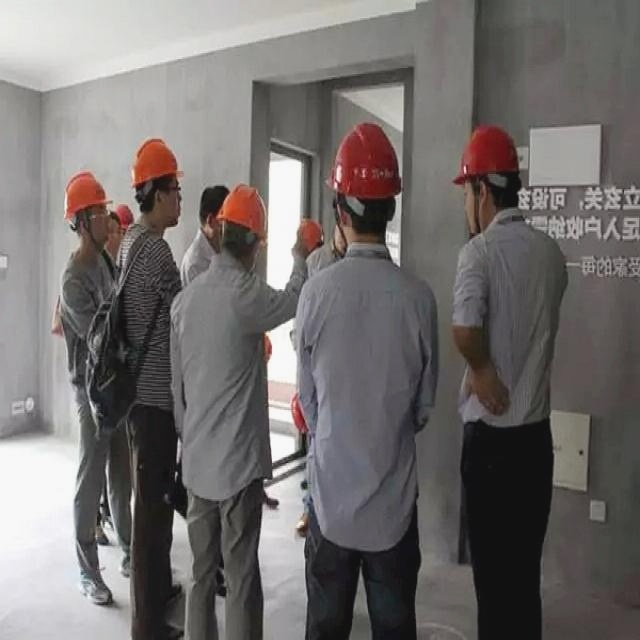Con_Casco: (325, 119, 403, 237), (452, 120, 518, 221)
Sin_Chaleco: (304, 262, 433, 538), (456, 232, 567, 428), (170, 276, 274, 479)
